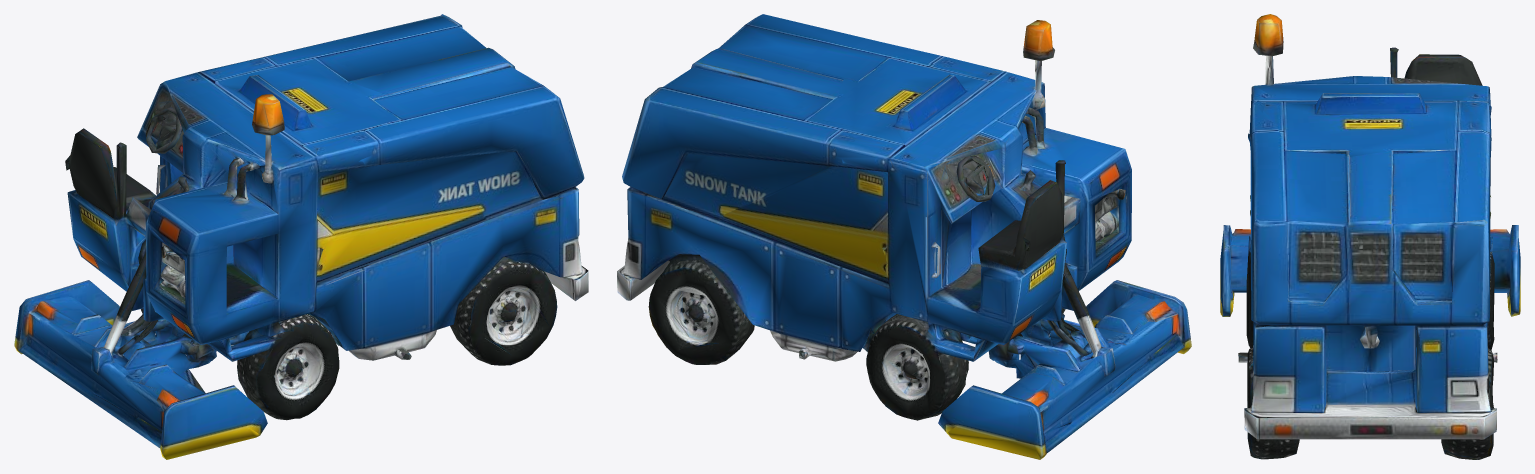
File: zamboni.glb
3 views of the same model, side by side, from view 1: azimuth 30°, elevation 25°; view 2: azimuth 150°, elevation 25°; view 3: azimuth 270°, elevation 25° (orthographic).
Visible parts, largest first — view 1: Mesh_0; view 2: Mesh_0; view 3: Mesh_0.
Boxes of the visible parts, left/top/right/bottom form: Mesh_0: left=14, top=14, right=588, bottom=459; Mesh_0: left=617, top=14, right=1191, bottom=459; Mesh_0: left=1220, top=14, right=1520, bottom=459.
Bounding box in the file's own units: 1.91 × 1.33 × 1.11.
Materials: 1 (1 with a texture image).
